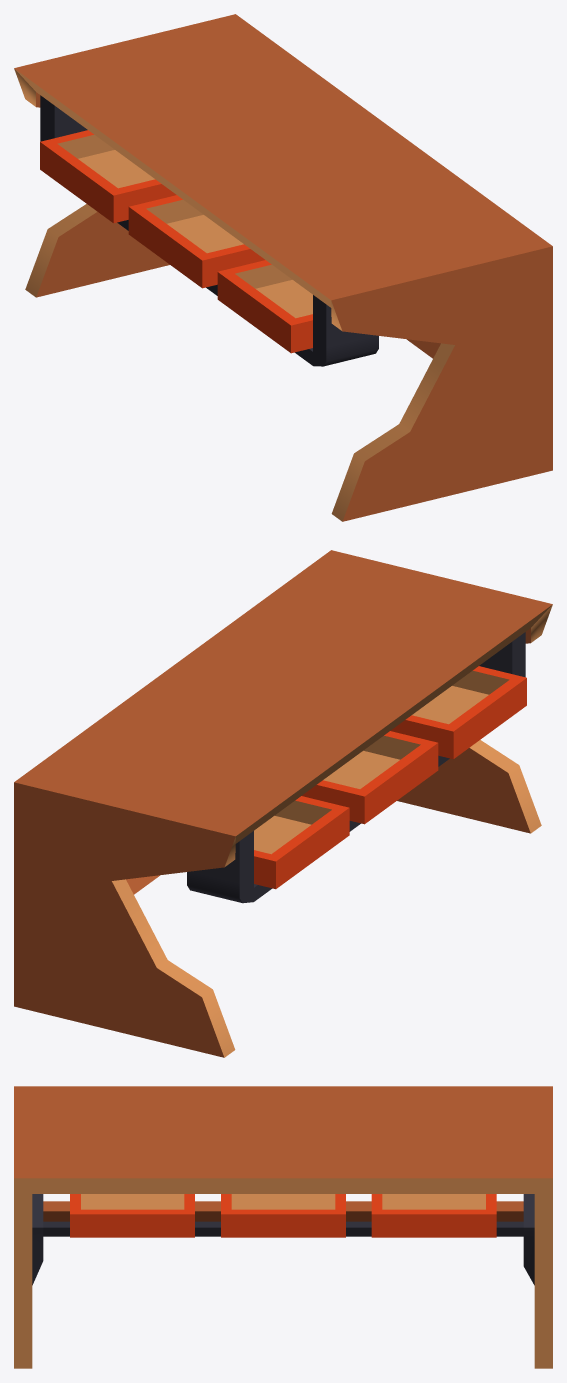
Rendered from Desk.fbx.
The picture shows the model from 3 angles, top to bottom: view 1: azimuth 30°, elevation 25°; view 2: azimuth 150°, elevation 25°; view 3: azimuth 270°, elevation 25°; orthographic projection. The views are drawn at different scales.
Parts seen in each view (by area): view 1: Desk, Draw2, Draw3, Draw1; view 2: Desk, Draw2, Draw1, Draw3; view 3: Desk, Draw3, Draw2, Draw1.
Part boxes in pixels (x1,y1,x2,y2): Desk: [14, 14, 552, 521]; Draw2: [128, 195, 264, 288]; Draw3: [40, 130, 176, 223]; Draw1: [217, 260, 312, 353]; Desk: [14, 550, 552, 1057]; Draw2: [302, 731, 438, 824]; Draw1: [390, 666, 526, 759]; Draw3: [254, 796, 349, 889]; Desk: [14, 1086, 552, 1368]; Draw3: [371, 1194, 496, 1237]; Draw2: [221, 1194, 345, 1237]; Draw1: [70, 1194, 194, 1237].
Size of the model in its own units: 1.05 by 0.9828 by 2.52.
